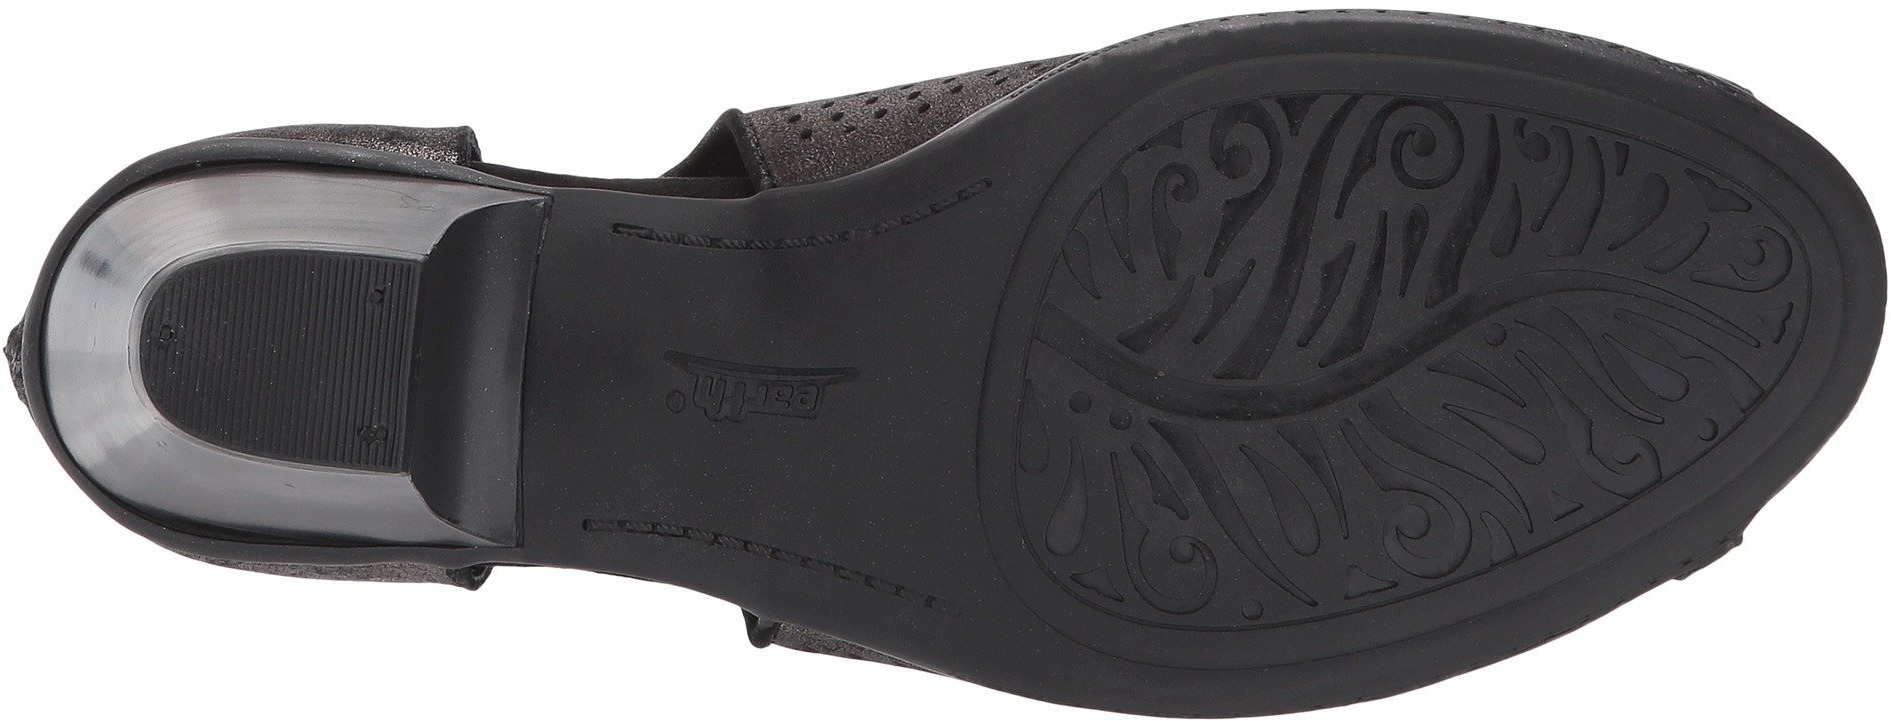circle: (1053, 381, 1147, 446), (1225, 580, 1274, 628), (1470, 305, 1510, 354), (357, 281, 397, 318)
other: (219, 251, 415, 442)
ribbon: (1028, 234, 1319, 458), (1358, 247, 1576, 461)
